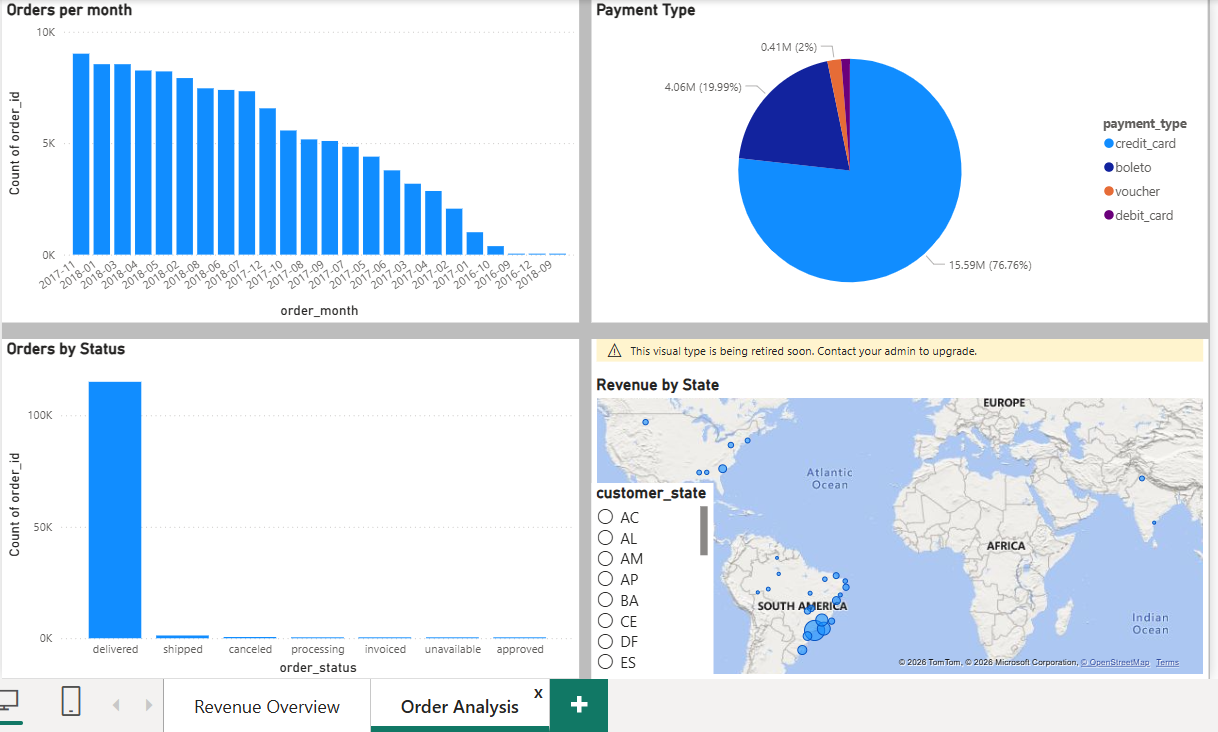

What the dashboard file says about the page in this screenshot:
{"tool":"powerbi","page":{"name":"Order Analysis","canvas":[1280,720],"ordinal":1},"visuals":[{"type":"columnChart","title":"Orders per month","fields":{"Category":["ecommerce_orders.order_month"],"Y":["CountNonNull(ecommerce_orders.order_id)"]},"box":[0,0,611.7,341.7],"z":0},{"type":"pieChart","title":"Payment Type","fields":{"Category":["ecommerce_orders.payment_type"],"Y":["Sum(ecommerce_orders.payment_value)"]},"box":[625,0,653.3,341.7],"z":1000},{"type":"map","title":"Revenue by State","fields":{"Category":["ecommerce_orders.customer_state"],"Size":["Sum(ecommerce_orders.total_amount)"]},"box":[625,360,653.3,360],"z":2000},{"type":"clusteredColumnChart","title":"Orders by Status","fields":{"Category":["ecommerce_orders.order_status"],"Y":["CountNonNull(ecommerce_orders.order_id)"]},"box":[0,360,611.7,360],"z":3000},{"type":"listSlicer","fields":{"Values":["ecommerce_orders.customer_state"]},"box":[625,511.7,128.3,208.3],"z":3001}]}

Visuals, with their boxes on the page's 1280x720 design canvas (x1, y1, x2, y2). These are canvas units, not pixel positions in the 1218x732 screenshot, which may show the page scaled, cropped or inside an application window:
"Orders per month" columnChart: <box>0,0,612,342</box>
"Payment Type" pieChart: <box>625,0,1278,342</box>
"Revenue by State" map: <box>625,360,1278,720</box>
"Orders by Status" clusteredColumnChart: <box>0,360,612,720</box>
listSlicer - ecommerce_orders.customer_state: <box>625,512,753,720</box>
